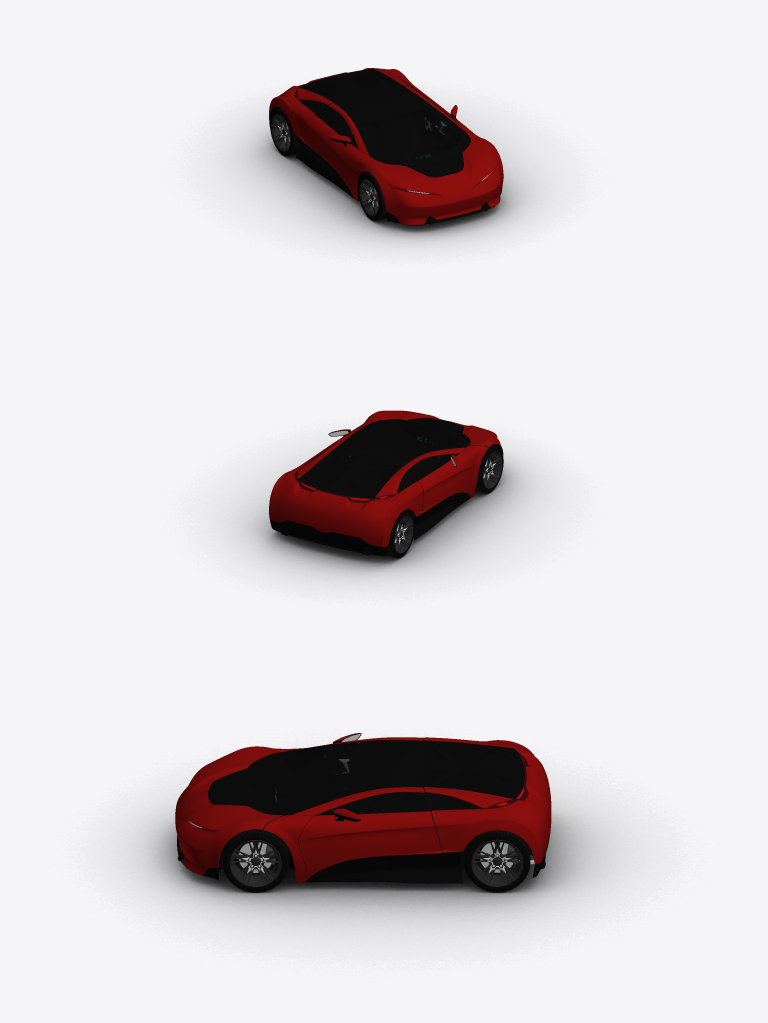
Rendered from concept_car.glb.
3 renders of one model, top to bottom at view 1: azimuth 30°, elevation 25°; view 2: azimuth 150°, elevation 25°; view 3: azimuth 270°, elevation 25°, orthographic. The views are drawn at different scales.
Parts seen in each view (by area): view 1: object 28, object 31, object 1, object 32, object 3, object 44, object 47, object 29, rim_235.001_rims_0, rim_235.003_rims_0; view 2: object 28, object 1, object 31, object 32, object 29, object 3, object 44, rim_235.003_rims_0, rim_235.001_rims_0; view 3: object 28, object 1, object 31, object 32, object 29, object 3, rim_235_rims_0, rim_235.002_rims_0, object 33, tire_001_R17_rubber_tires_0, tire_001_R17.002_rubber_tires_0, object 44 (+1 smaller).
Boxes of the visible parts, x1,y1,x2,y2 form: object 28: (269, 68, 503, 225); object 31: (298, 68, 465, 165); object 1: (248, 127, 526, 241); object 32: (269, 69, 483, 219); object 3: (335, 87, 422, 117); object 44: (329, 84, 453, 158); object 47: (330, 92, 453, 159); object 29: (269, 110, 502, 223); rim_235.001_rims_0: (359, 179, 378, 216); rim_235.003_rims_0: (271, 114, 290, 151); object 28: (269, 410, 503, 547); object 1: (245, 459, 526, 575); object 31: (298, 420, 469, 497); object 32: (288, 417, 502, 554); object 29: (270, 430, 470, 556); object 3: (335, 435, 422, 465); object 44: (327, 440, 433, 492); rim_235.003_rims_0: (394, 516, 413, 553); rim_235.001_rims_0: (483, 451, 502, 488); object 28: (175, 733, 551, 882); object 1: (145, 806, 598, 918); object 31: (239, 740, 524, 814); object 32: (178, 738, 528, 881); object 29: (177, 733, 550, 883); object 3: (359, 740, 422, 788); rim_235_rims_0: (229, 840, 281, 887); rim_235.002_rims_0: (471, 839, 523, 886); object 33: (177, 754, 545, 881); tire_001_R17_rubber_tires_0: (222, 828, 288, 892); tire_001_R17.002_rubber_tires_0: (464, 831, 530, 892); object 44: (261, 751, 501, 813).
Size of the model in its own units: 8.57 by 1.15 by 8.57.
Materials: 29 (2 with a texture image).
